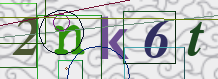2: (12, 16, 39, 56)
6: (143, 18, 168, 59)
k: (99, 14, 129, 61)
n: (53, 24, 84, 56)
t: (185, 21, 206, 57)
